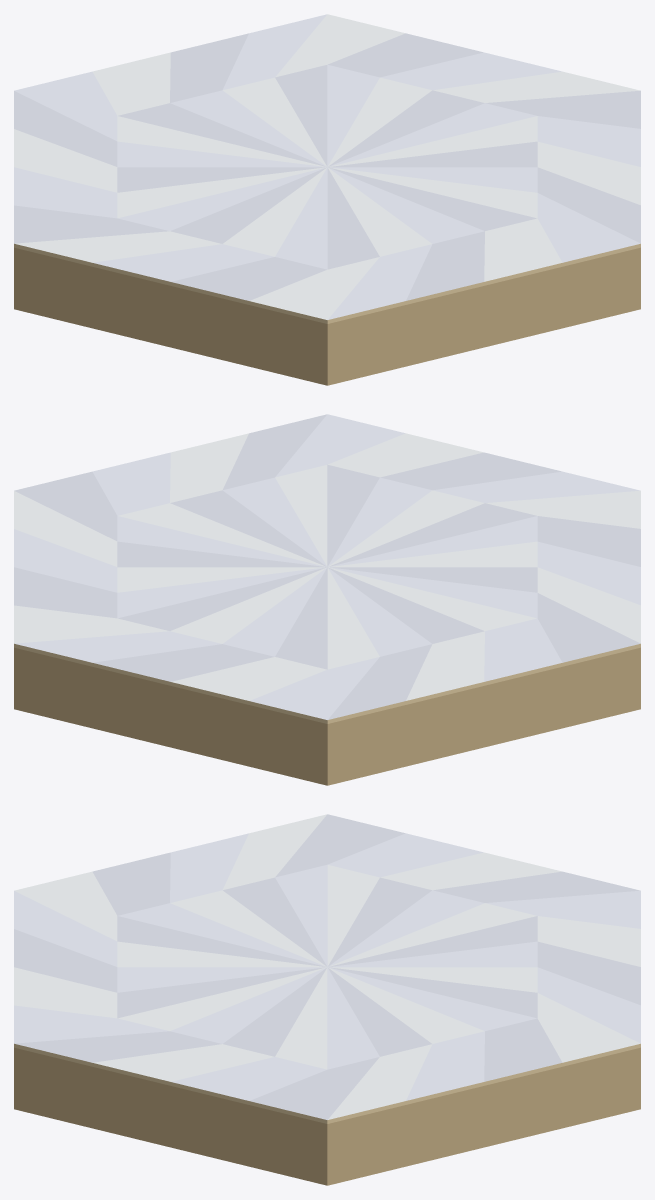
File: terrain.glb
The picture shows the model from 3 angles, top to bottom: view 1: azimuth 30°, elevation 25°; view 2: azimuth 150°, elevation 25°; view 3: azimuth 270°, elevation 25°; orthographic projection.
Visible parts, largest first — view 1: Tile_牦牦斯坦; view 2: Tile_牦牦斯坦; view 3: Tile_牦牦斯坦.
Boxes of the visible parts, x1,y1,x2,y2 form: Tile_牦牦斯坦: (14, 14, 640, 385); Tile_牦牦斯坦: (14, 414, 640, 785); Tile_牦牦斯坦: (14, 814, 640, 1185).
Bounding box in the file's own units: 2 × 0.2 × 1.73.
